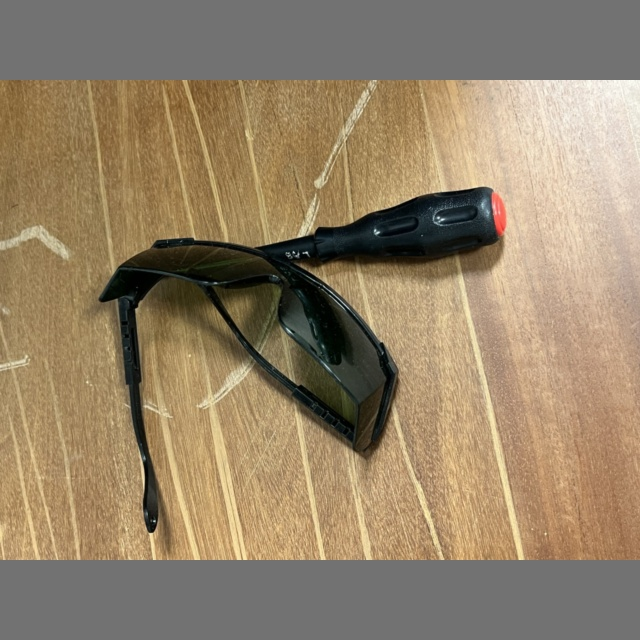screwdriver: (259, 187, 506, 263)
